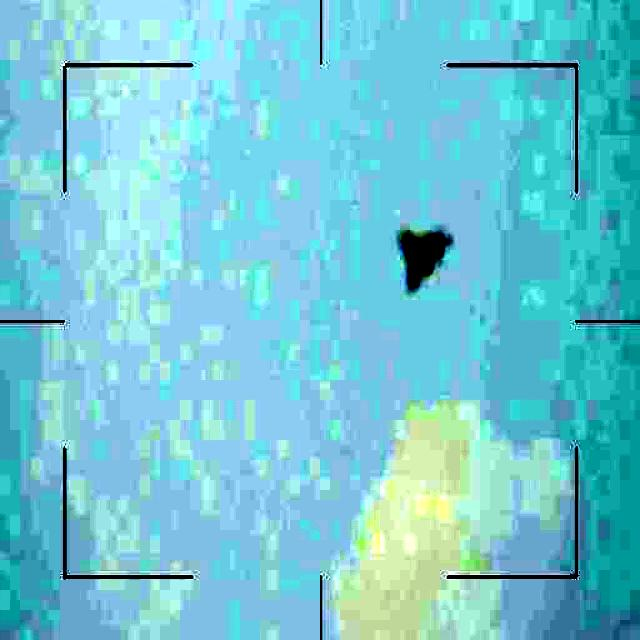bird: (405, 221, 451, 294)
